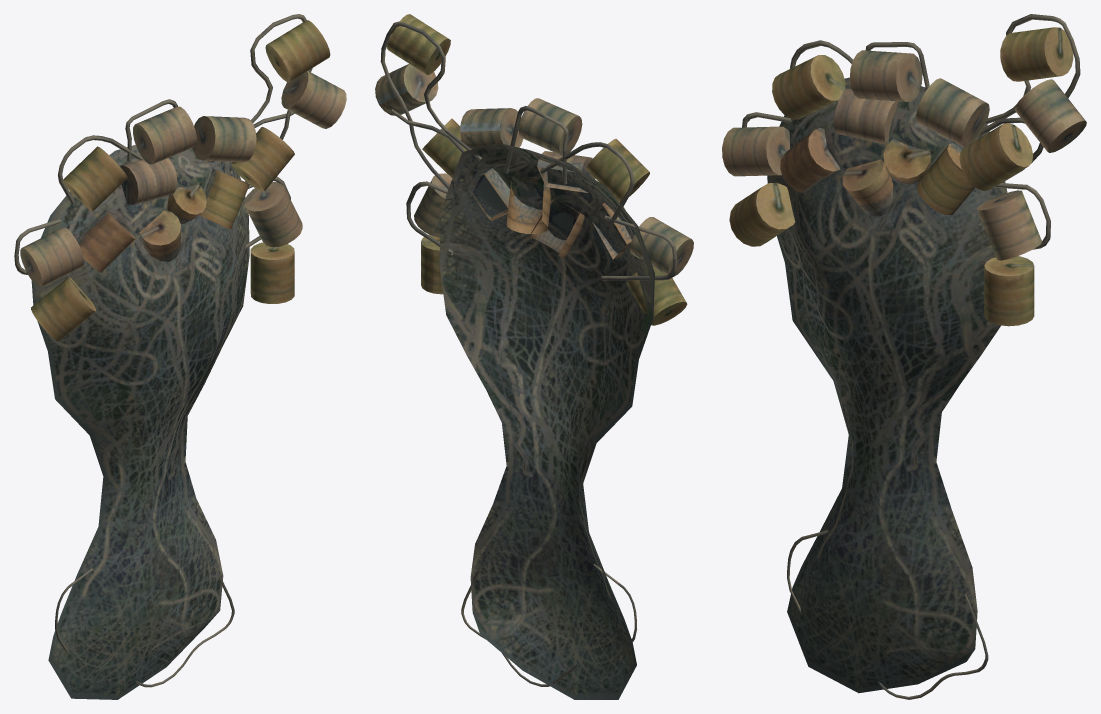
File: hd_dec_AM_013_FishingNets_02.glb
3 renders of one model, left to right at view 1: azimuth 30°, elevation 25°; view 2: azimuth 150°, elevation 25°; view 3: azimuth 330°, elevation 25°, orthographic. The views are drawn at different scales.
Visible parts, largest first — view 1: set_0_group_0; view 2: set_0_group_0; view 3: set_0_group_0.
Boxes of the visible parts, x1,y1,x2,y2 form: set_0_group_0: (14,14,346,699); set_0_group_0: (375,14,693,699); set_0_group_0: (722,14,1086,699).
Size of the model in its own units: 1.32 by 2.57 by 0.2617.
1 material, 1 textured.
